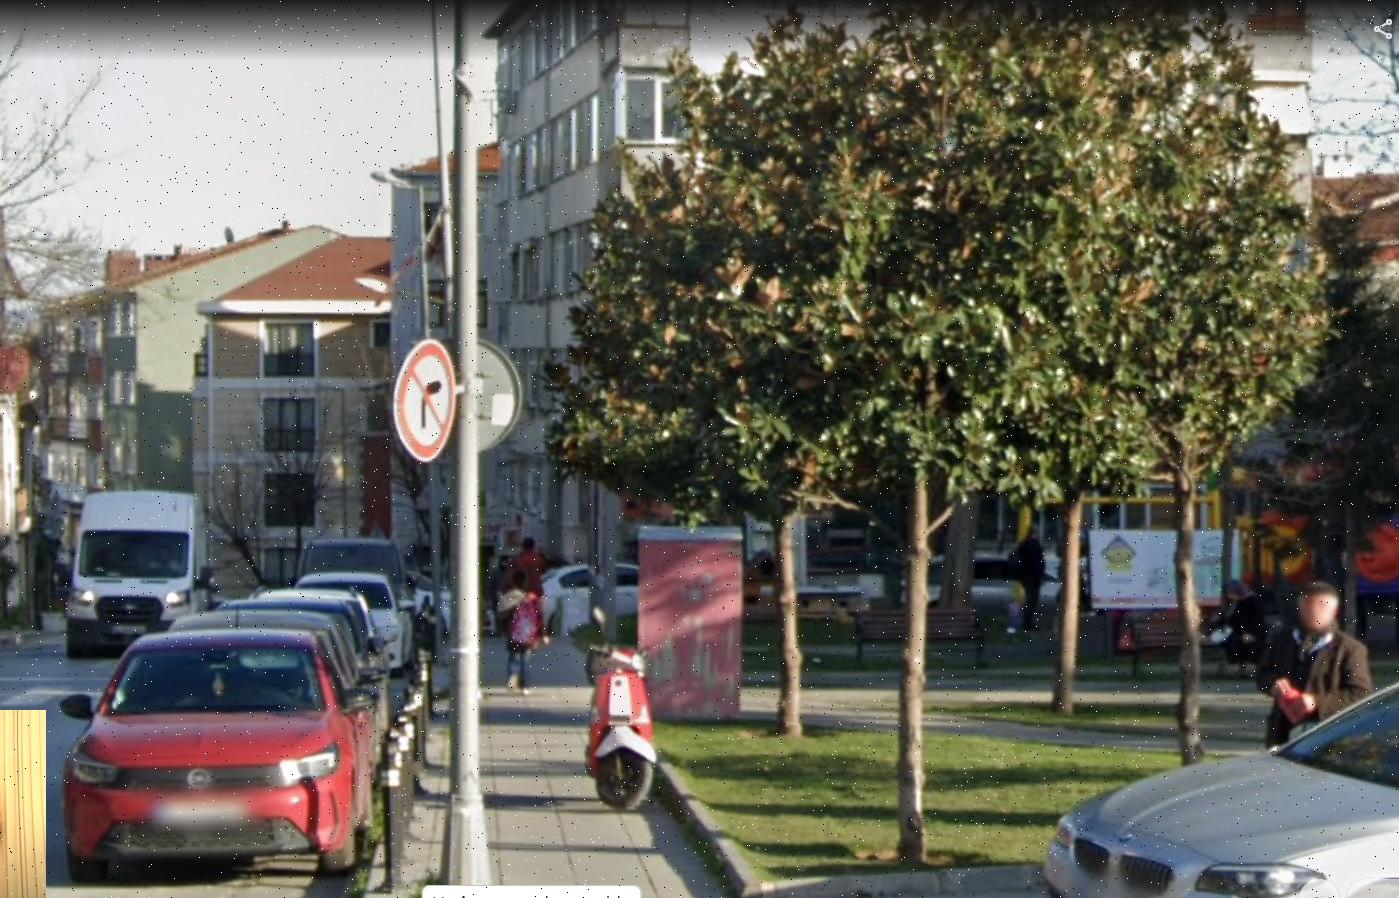rightturnsareforbidden: (396, 339, 460, 459)
